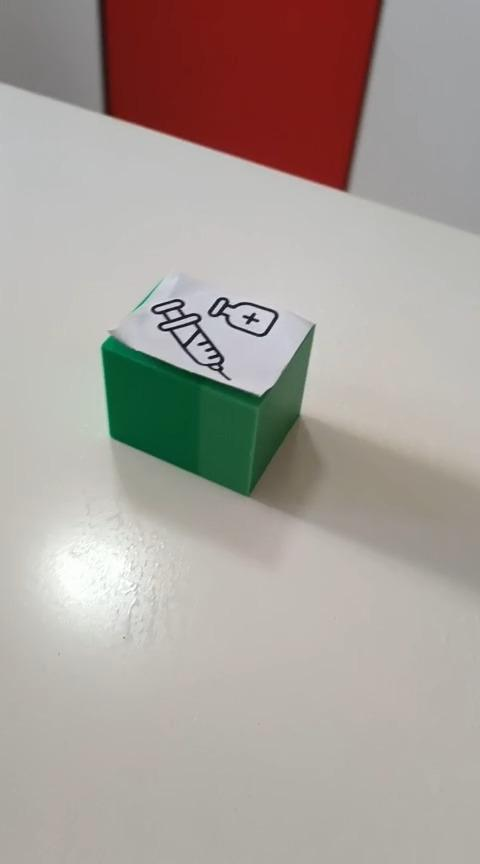antiseptic cream: (100, 270, 316, 496)
